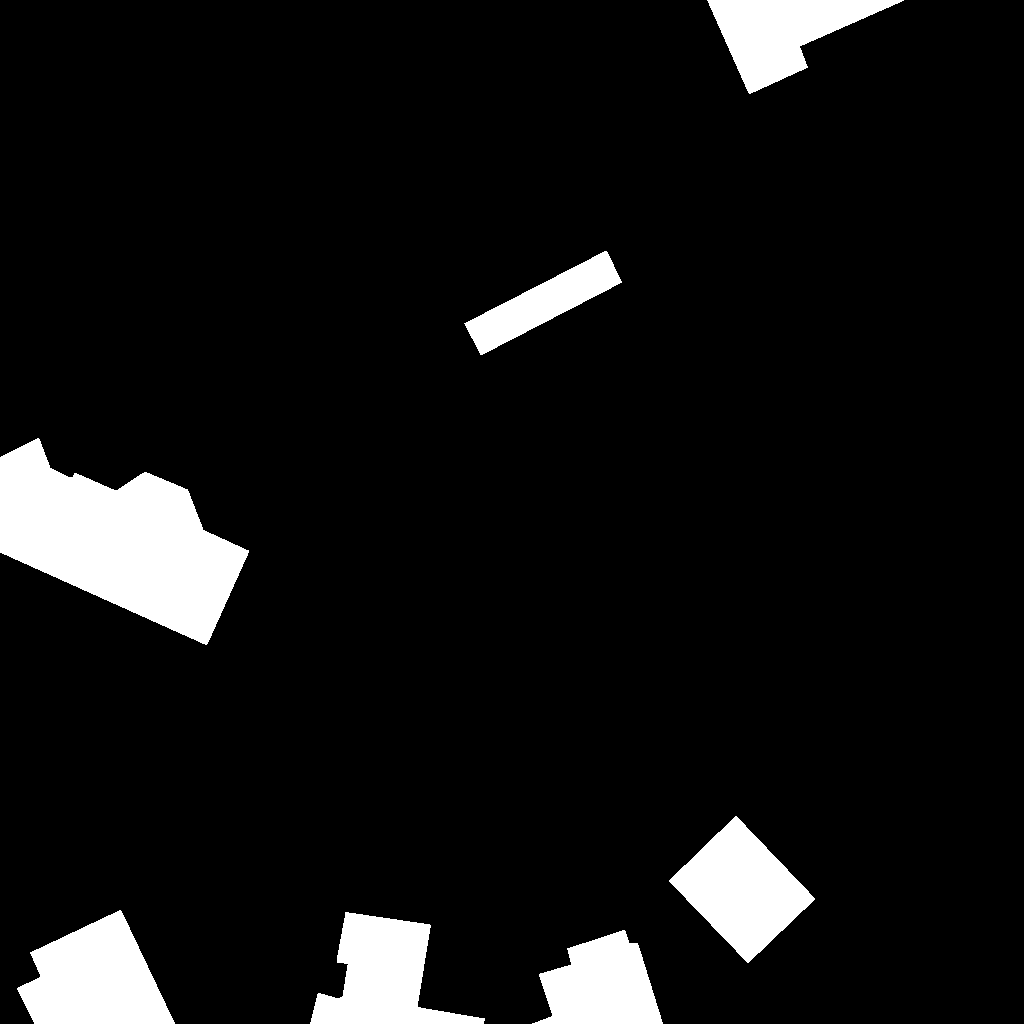building: (0, 438, 250, 646), (669, 816, 816, 964), (310, 912, 486, 1024), (707, 0, 906, 95), (17, 910, 176, 1024), (464, 251, 623, 356), (532, 930, 664, 1024)
